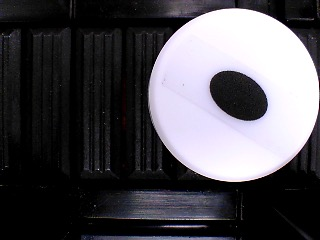BOHOEL: (147, 7, 320, 183)
